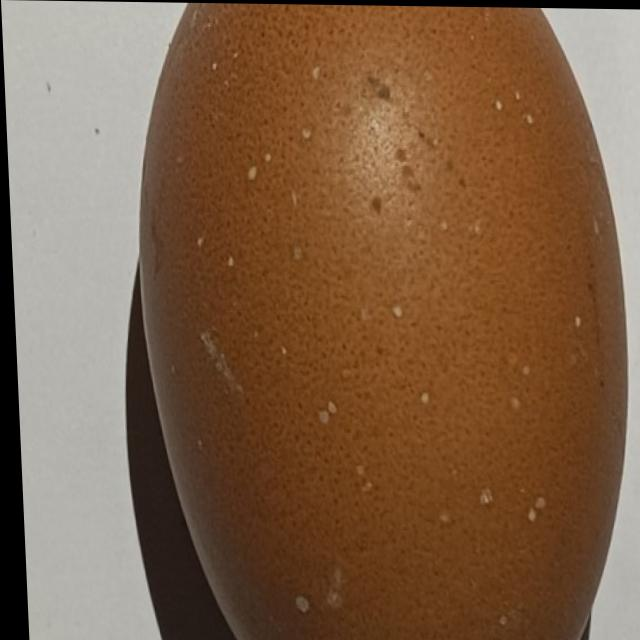unfresh: (116, 1, 640, 640)
